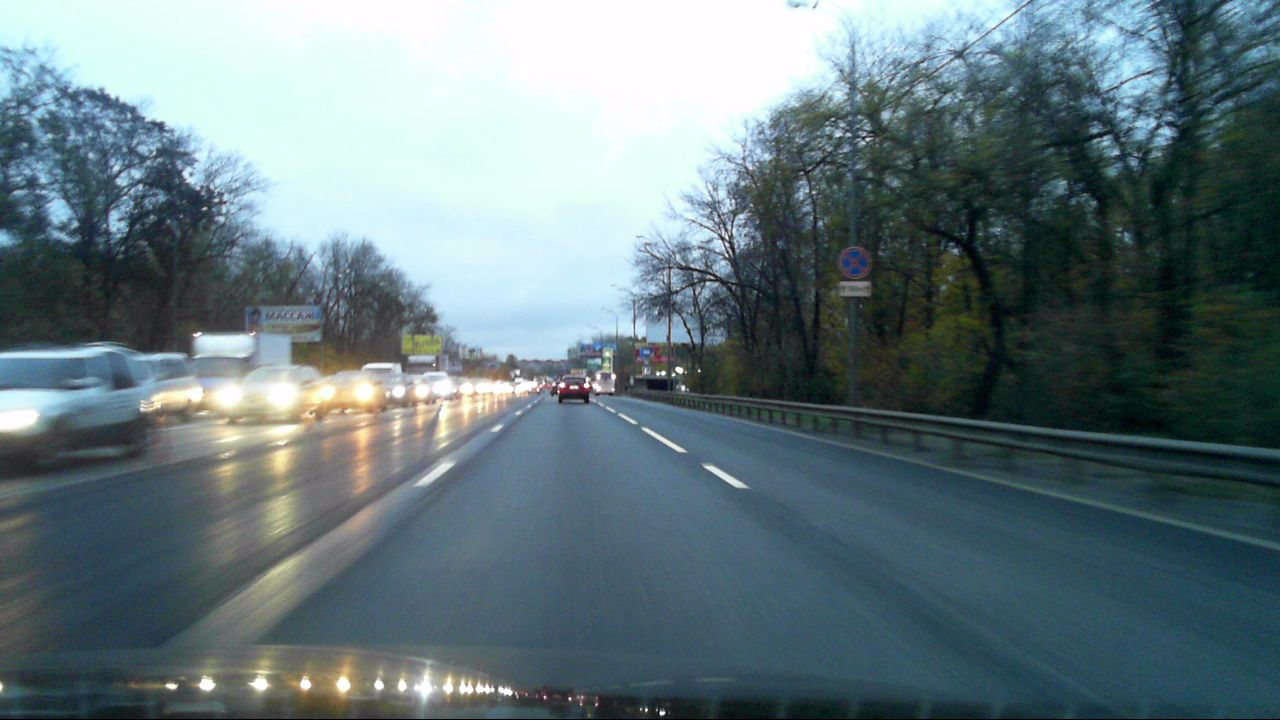No Parking: (837, 246, 872, 281)
